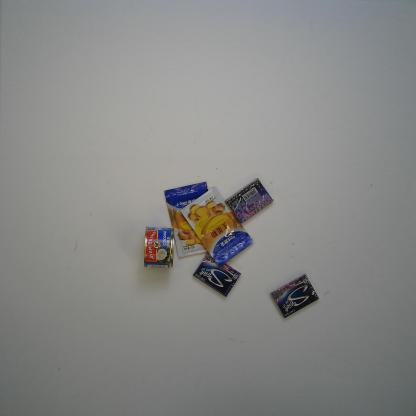Canned Food: (143, 226, 175, 269)
Gum: (225, 178, 274, 224), (193, 252, 241, 298), (271, 274, 320, 318)
Seasoner: (180, 186, 254, 268), (164, 181, 213, 258)
